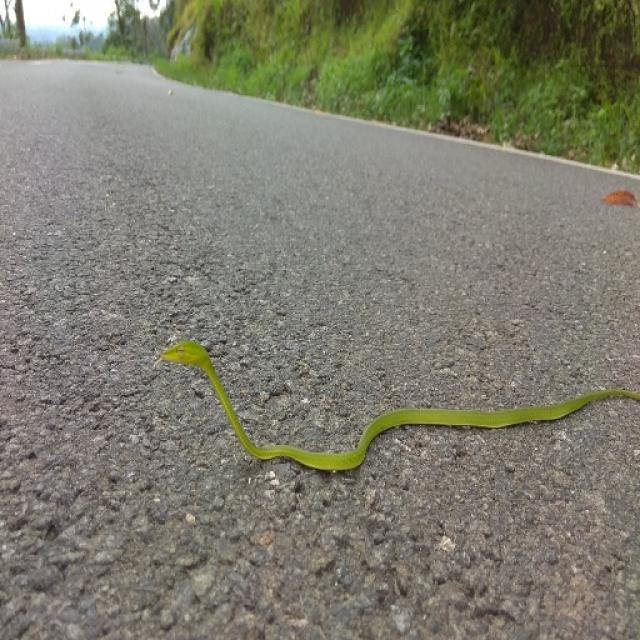snake: (154, 326, 640, 486)
